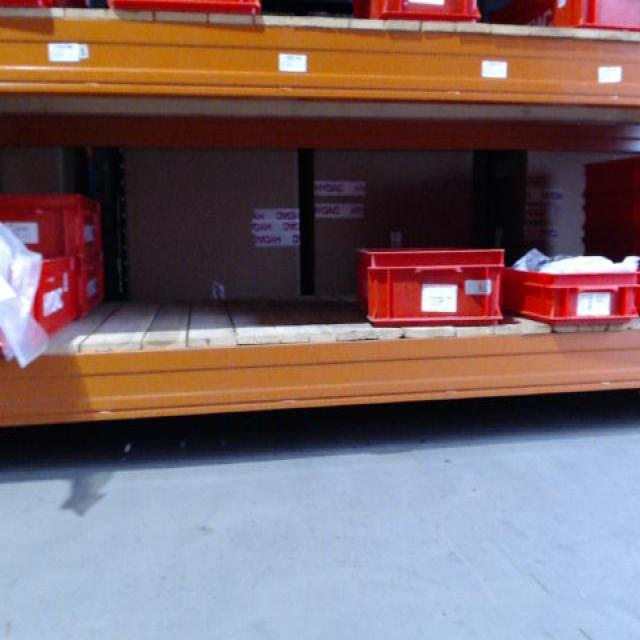small_load_carrier: (352, 236, 507, 332), (502, 257, 637, 330), (1, 187, 112, 257), (15, 255, 73, 348), (515, 4, 636, 42), (63, 252, 113, 320), (111, 4, 266, 24), (354, 4, 471, 27)
